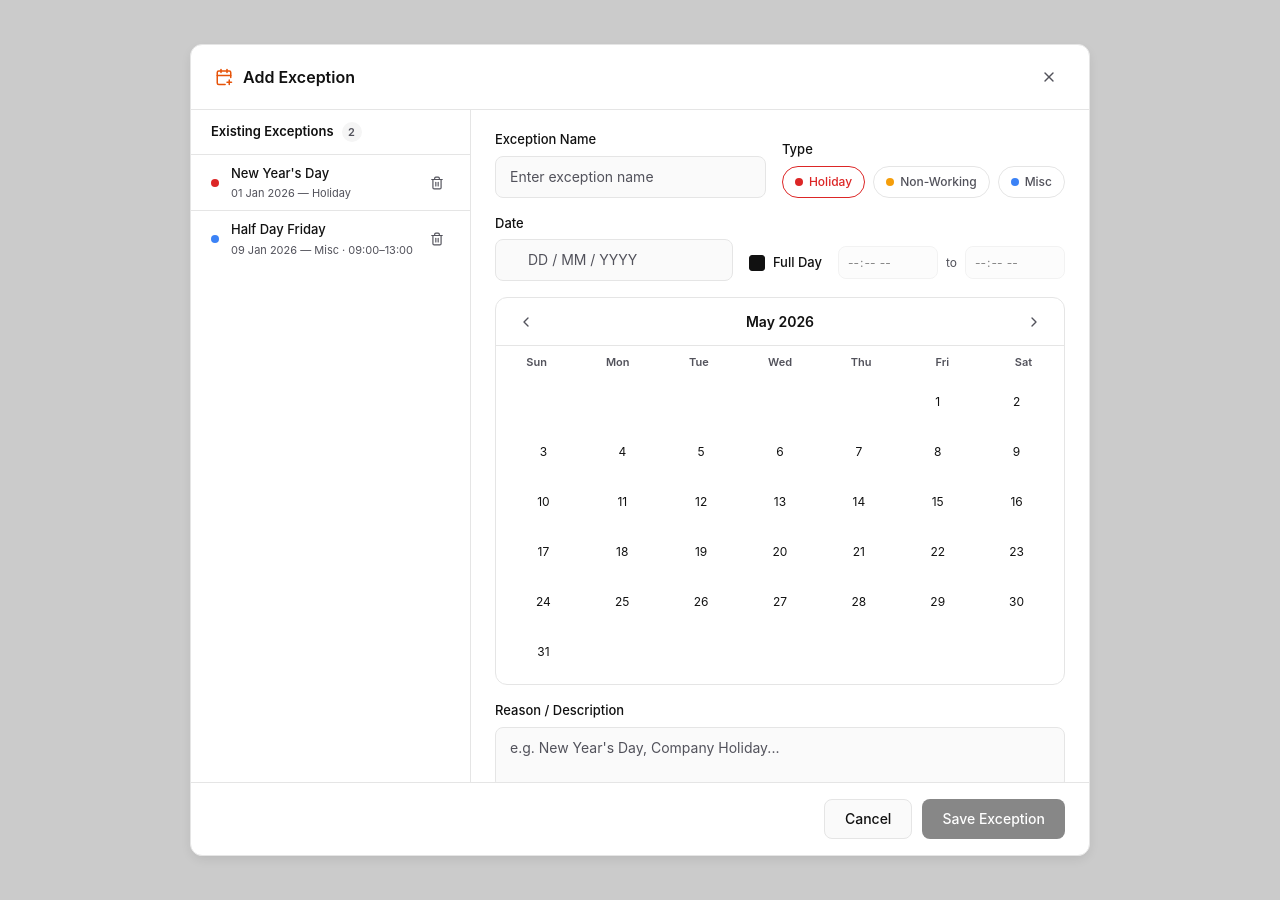
Test: CalendarExceptionModal › unchecking Full Day enables time inputs and sets defaults (09:00 - 18:00)
// Click on the "Full Day" text to toggle
Click the text "Full Day" at (797, 263), box [773,253,822,272]
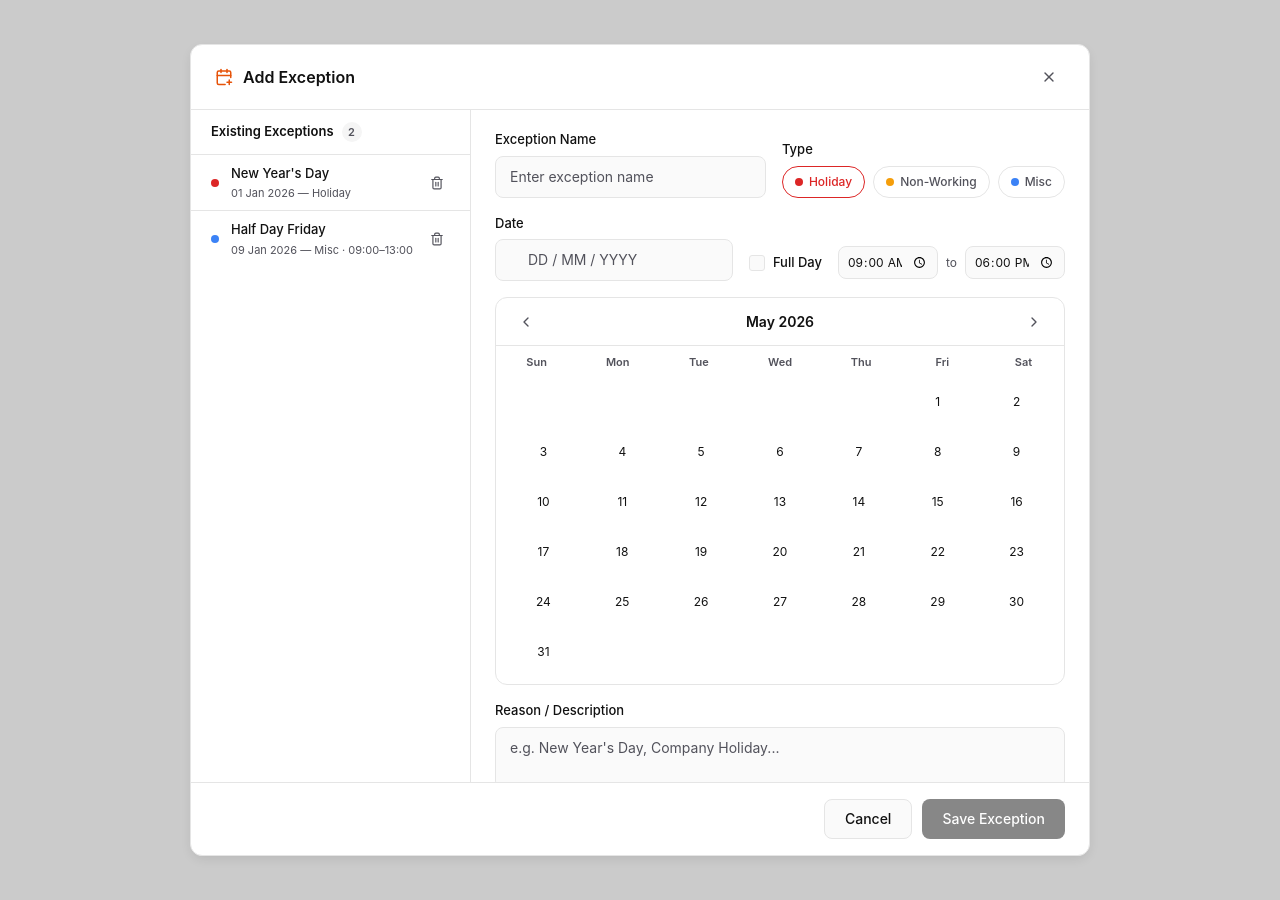
Check: the 1st time field is enabled, box [838,246,938,279]
Check: the 2nd time field is enabled, box [965,246,1065,279]
Check: the 1st time field holds "09:00", box [838,246,938,279]
